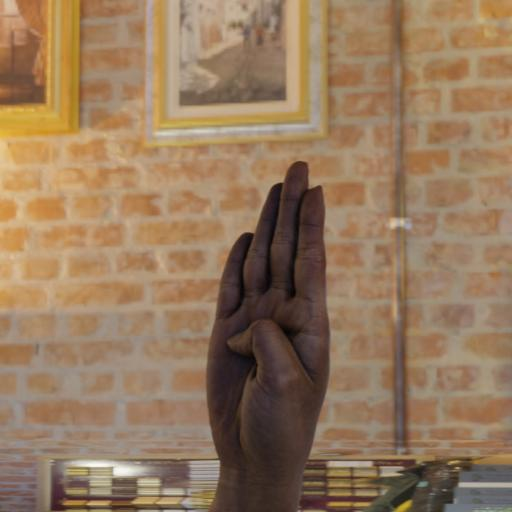B: (192, 151, 346, 512)
